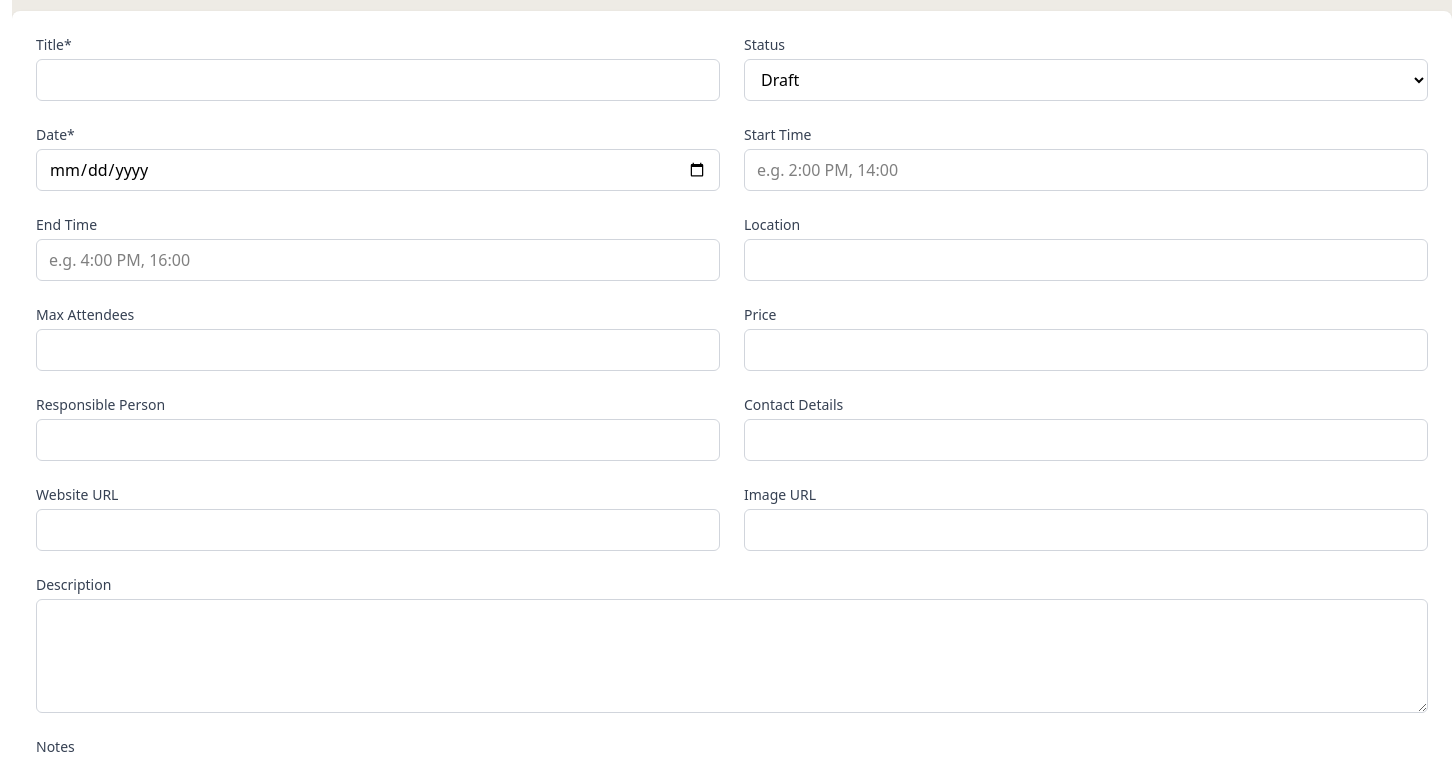
Test case: Admin Event New Page › should show loading state during submission
Type "Test Event" into the field labelled "Title*" at (378, 80), box left=36, top=59, right=720, bottom=101
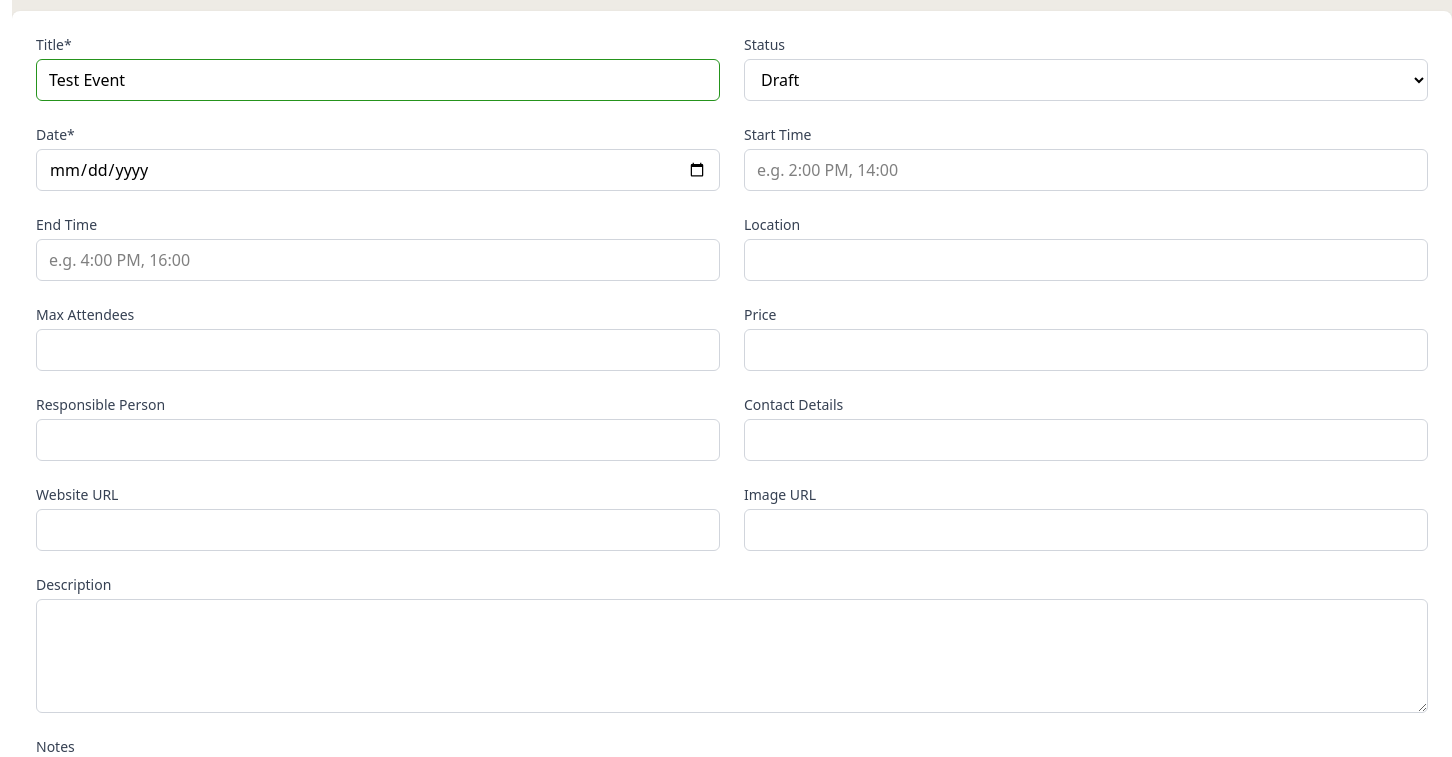
Type "2025-08-20" into the date field labelled "Date*" at (378, 170), box left=36, top=149, right=720, bottom=191
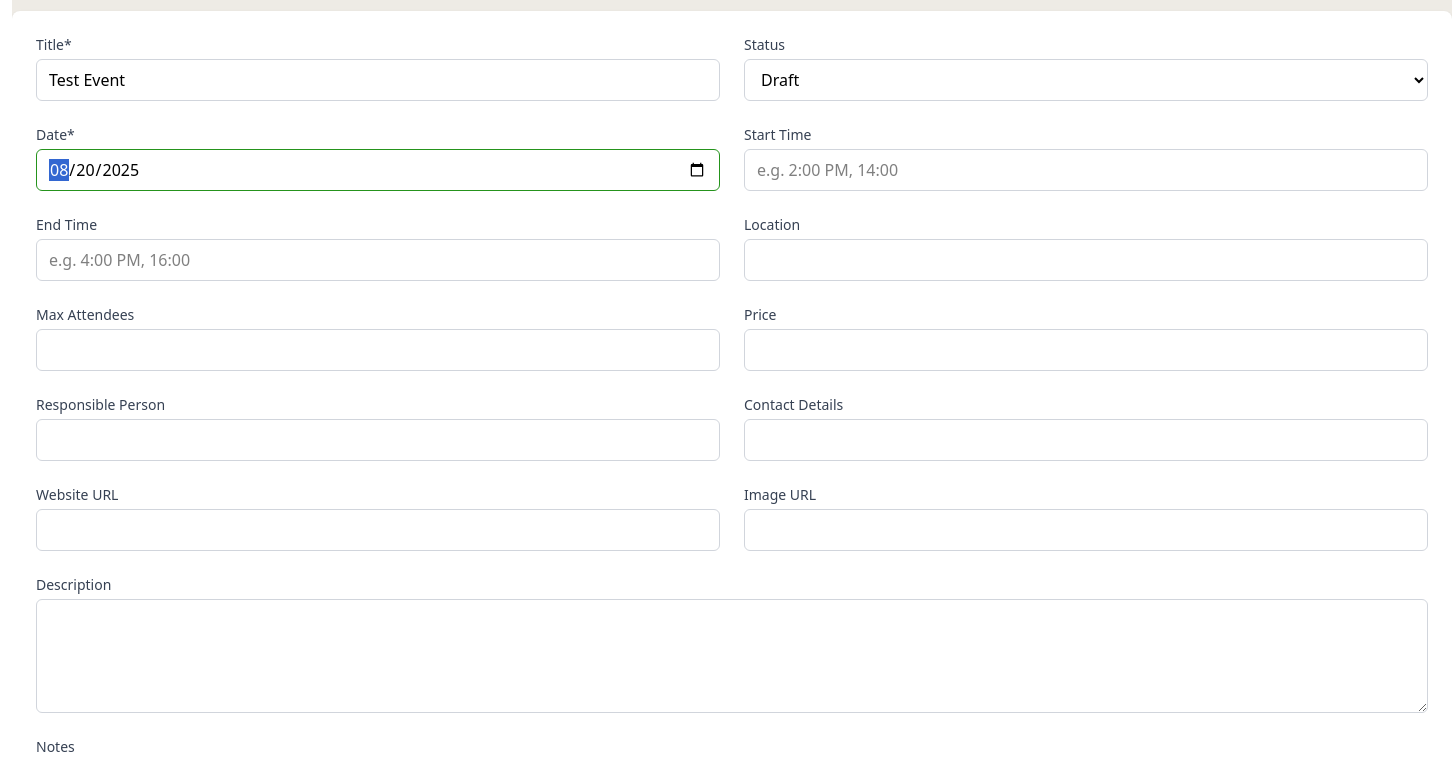
Type "10:00" into the field labelled "Start Time" at (1086, 170), box left=744, top=149, right=1428, bottom=191
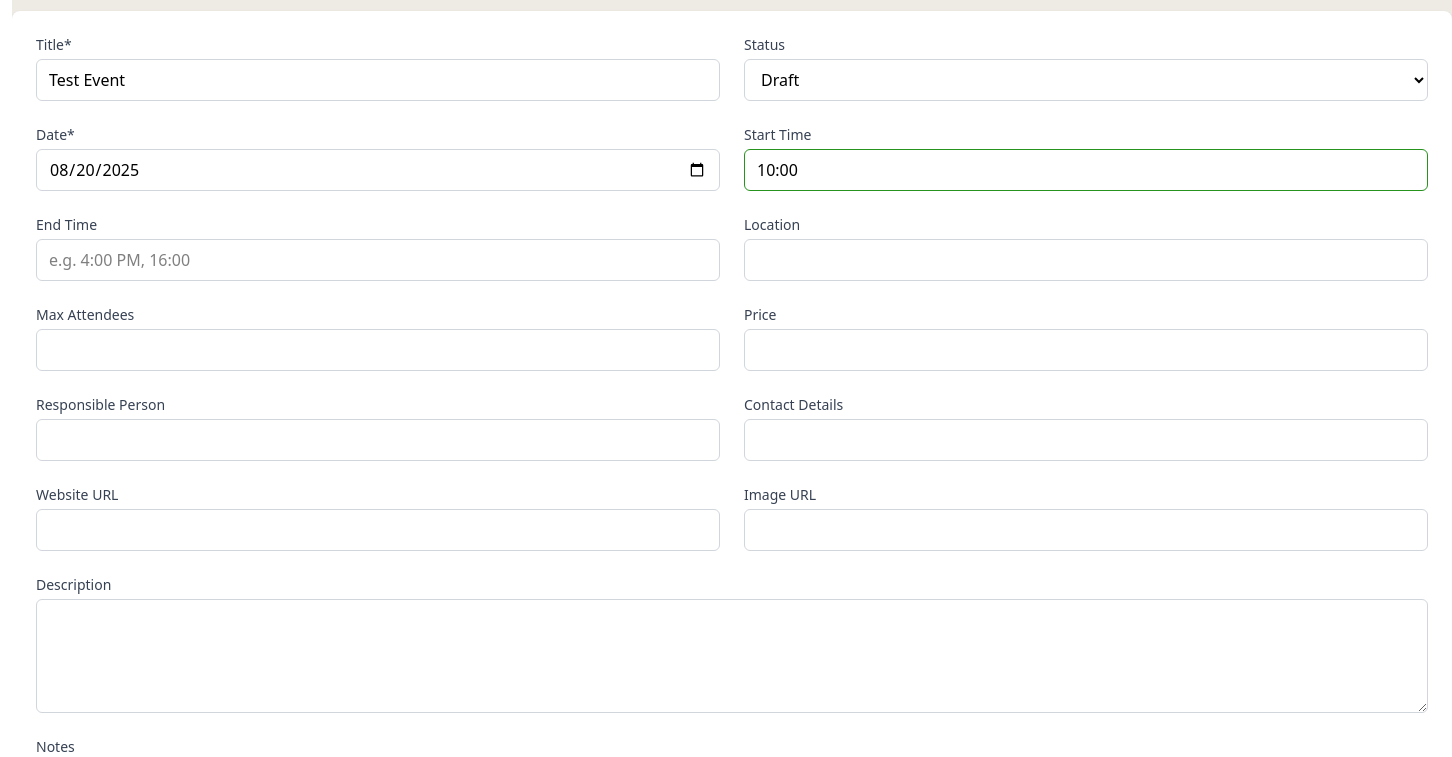
Type "12:00" into the field labelled "End Time" at (378, 260), box left=36, top=239, right=720, bottom=281
(page scrolled)
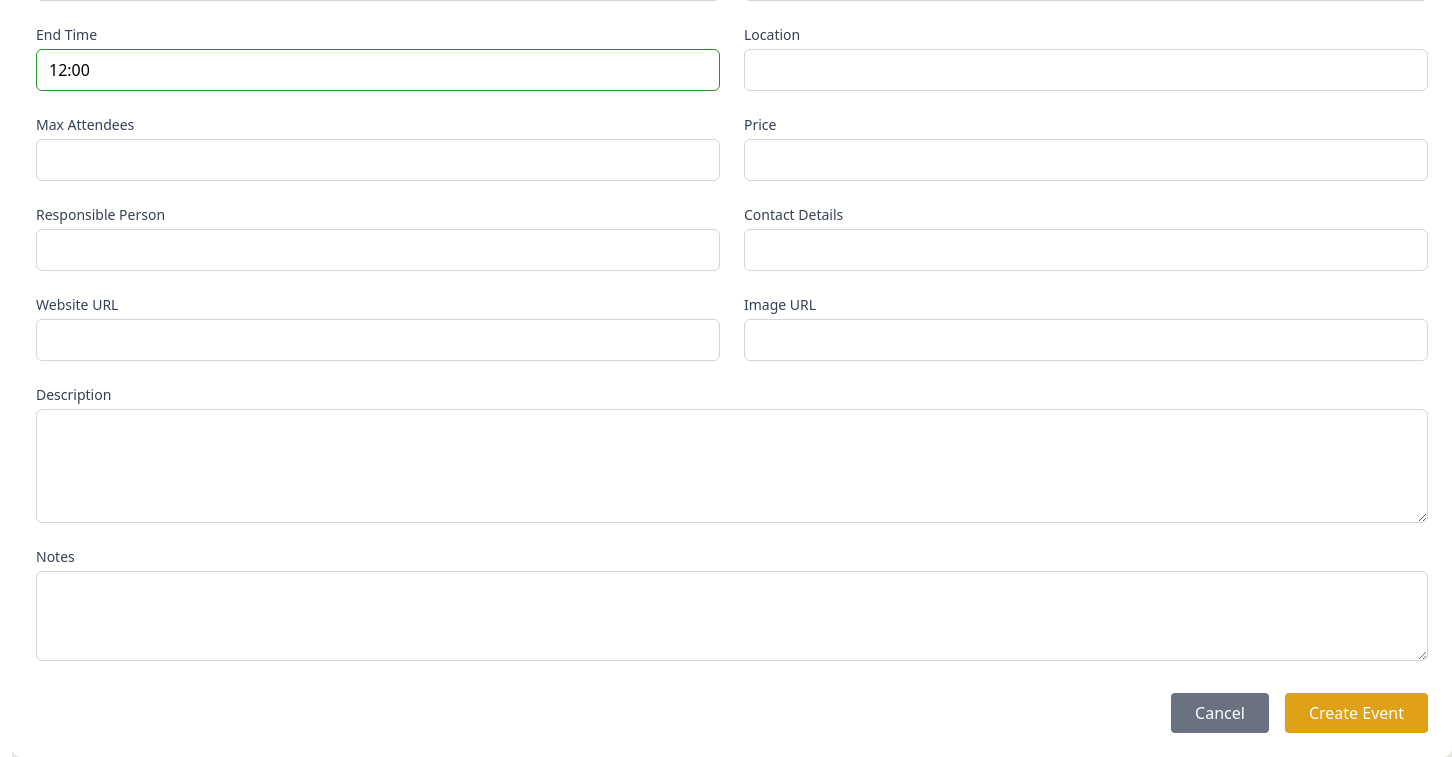
Click the button "Create Event" at (1356, 713), box left=1285, top=693, right=1428, bottom=733
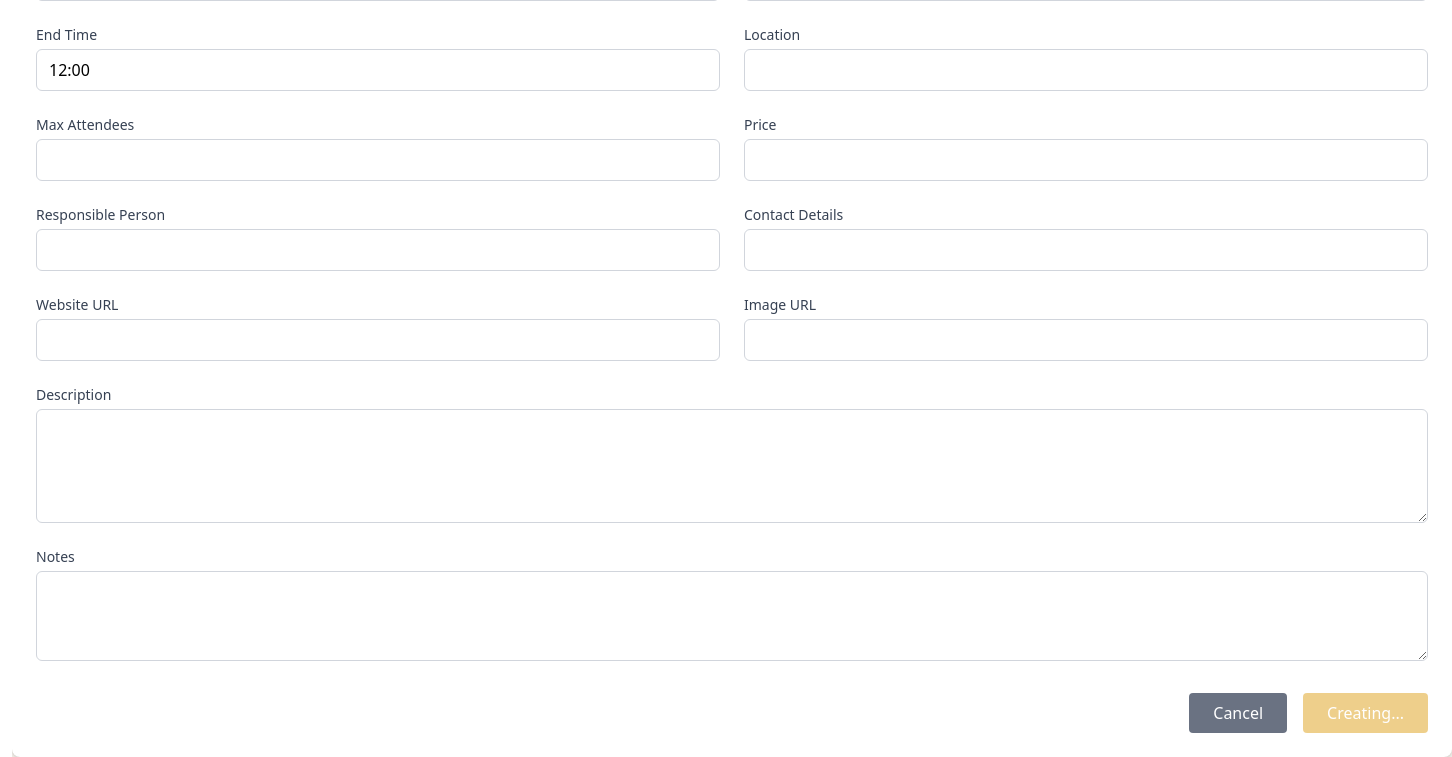
Expected: the button "Creating..." is disabled, left=1303, top=693, right=1428, bottom=733
